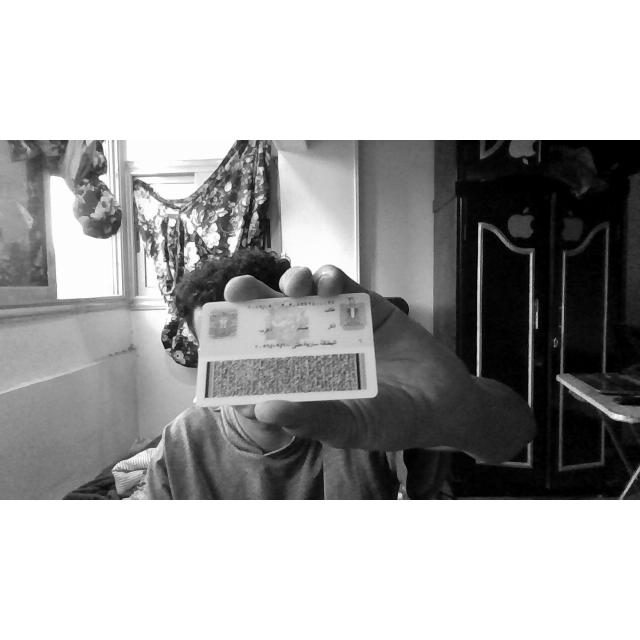id_card: (194, 294, 378, 406)
